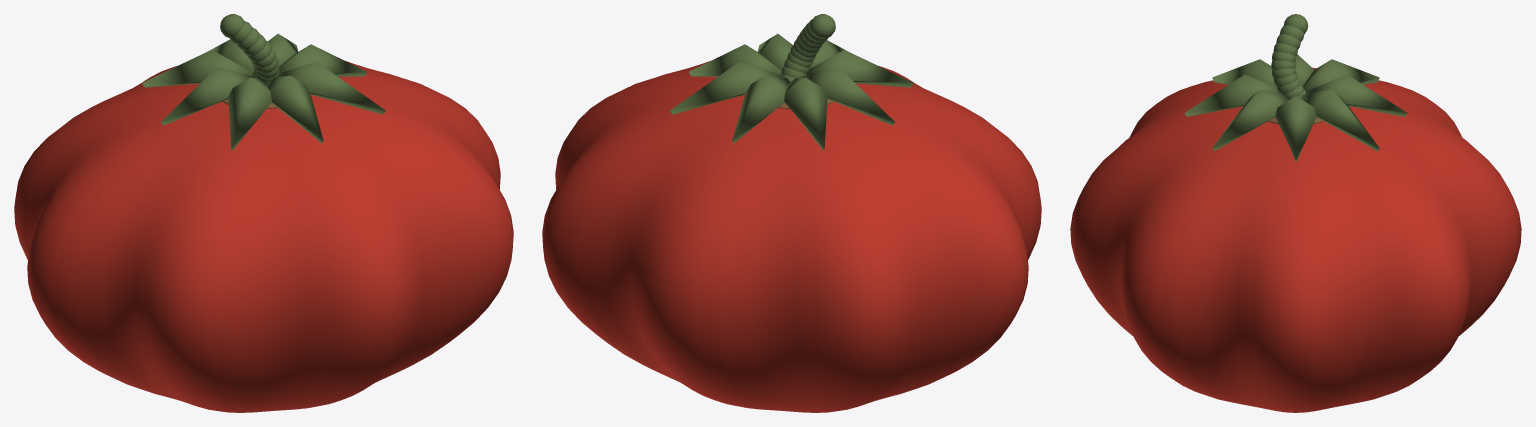
Rendered from beefsteak.glb.
3 views of the same model, side by side, from view 1: azimuth 30°, elevation 25°; view 2: azimuth 150°, elevation 25°; view 3: azimuth 270°, elevation 25° (orthographic). The views are drawn at different scales.
Parts seen in each view (by area): view 1: Broad eight-shouldered Beefsteak shell, Heavy folded Beefsteak calyx; view 2: Broad eight-shouldered Beefsteak shell, Heavy folded Beefsteak calyx; view 3: Broad eight-shouldered Beefsteak shell, Heavy folded Beefsteak calyx.
Boxes of the visible parts, x1,y1,x2,y2 form: Broad eight-shouldered Beefsteak shell: [14, 61, 513, 412]; Heavy folded Beefsteak calyx: [142, 14, 385, 150]; Broad eight-shouldered Beefsteak shell: [542, 61, 1041, 412]; Heavy folded Beefsteak calyx: [670, 14, 913, 150]; Broad eight-shouldered Beefsteak shell: [1070, 67, 1521, 412]; Heavy folded Beefsteak calyx: [1184, 14, 1407, 161].
Bounding box in the file's own units: 1.79 × 1.41 × 1.62.
